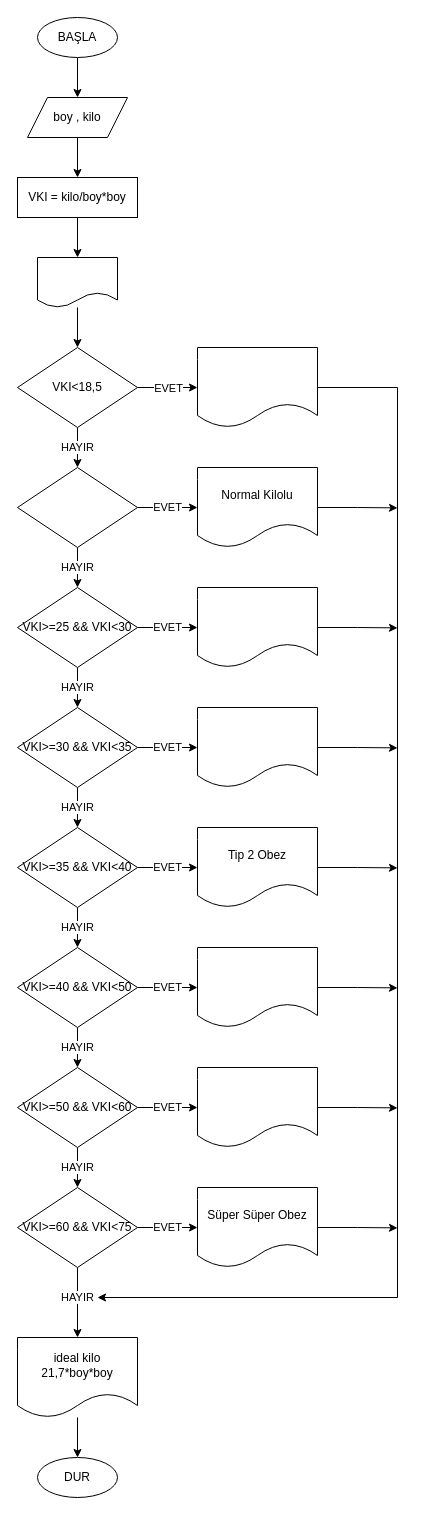
The diagram is 423 pixels wide and 1515 high, and some of its shapes have lost their labels. Each missing label, with the centre of its shape:
Fazla Kilolu: pixel 257 627
Morbid Obez(İleri derecede obez): pixel 257 987
Süper Obez: pixel 257 1107
Tip 1 Obez: pixel 257 747
VKI: pixel 77 282
VKI>=18,5 && VKI<25: pixel 77 507
Zayıf: pixel 257 387
